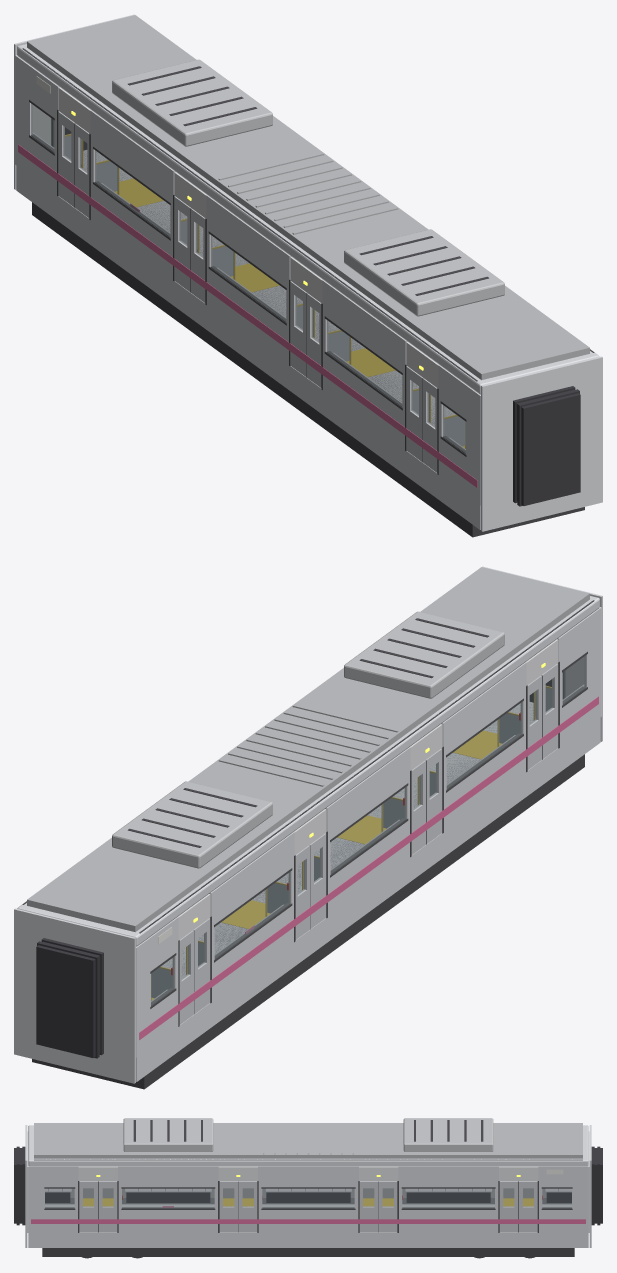
Rendered from train_coach.gltf.
3 views of the same model, one above another, from view 1: azimuth 30°, elevation 25°; view 2: azimuth 150°, elevation 25°; view 3: azimuth 270°, elevation 25° (orthographic). The views are drawn at different scales.
Parts seen in each view (by area): view 1: Roof, Chassis, EndOuter-1, AcUnit5.0, AcUnit-5.0, RoofSlab, Skirt, Bellows-1_3, Stripe-1, Outer-1High_-6.8, Outer-1High_-1.8, Outer-1High_3.2 (+23 smaller); view 2: Roof, Chassis, EndOuter1, AcUnit-5.0, AcUnit5.0, RoofSlab, Skirt, Bellows1_3, Stripe-1, Outer-1High_3.2, Outer-1High_-1.8, Outer-1High_-6.8 (+23 smaller); view 3: Roof, Chassis, RoofSlab, Skirt, AcUnit5.0, AcUnit-5.0, Stripe1, Outer1High_-1.8, Outer1High_3.2, Outer1High_-6.8, Outer1Low_-1.8, Outer1Low_3.2 (+54 smaller).
Boxes of the visible parts, x1,y1,x2,y2 form: Roof: (27,15,589,380); Chassis: (16,150,480,529); EndOuter-1: (481,356,602,531); AcUnit5.0: (112,59,272,146); AcUnit-5.0: (344,229,504,316); RoofSlab: (17,44,599,394); Skirt: (32,202,584,537); Bellows-1_3: (521,393,580,505); Stripe-1: (18,144,477,487); Outer-1High_-6.8: (322,280,406,375); Outer-1High_-1.8: (206,195,291,290); Outer-1High_3.2: (90,110,174,205); Roof: (27,567,589,932); Chassis: (136,702,600,1081); EndOuter1: (14,908,135,1083); AcUnit-5.0: (344,611,504,698); AcUnit5.0: (112,781,272,868); RoofSlab: (17,596,599,946); Skirt: (32,754,584,1089); Bellows1_3: (36,945,95,1057); Stripe-1: (139,696,598,1039); Outer-1High_3.2: (210,832,294,927); Outer-1High_-1.8: (325,747,410,842); Outer-1High_-6.8: (442,662,526,757); Roof: (34,1123,582,1158); Chassis: (28,1204,588,1247); RoofSlab: (28,1125,588,1166); Skirt: (42,1248,574,1256); AcUnit5.0: (403,1118,493,1151); AcUnit-5.0: (123,1118,213,1151); Stripe1: (31,1219,585,1223); Outer1High_-1.8: (258,1166,358,1187); Outer1High_3.2: (398,1166,498,1187); Outer1High_-6.8: (118,1166,218,1187); Outer1Low_-1.8: (258,1209,358,1232); Outer1Low_3.2: (399,1209,498,1232).
Size of the model in its own units: 3.07 by 4.47 by 21.02.
